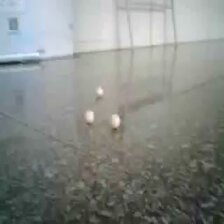tennis: (103, 179, 142, 224), (1, 109, 22, 142), (38, 70, 53, 92)
